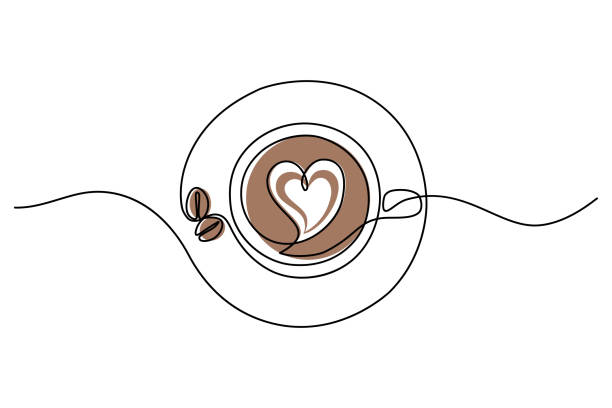cup: (52, 26, 582, 350)
